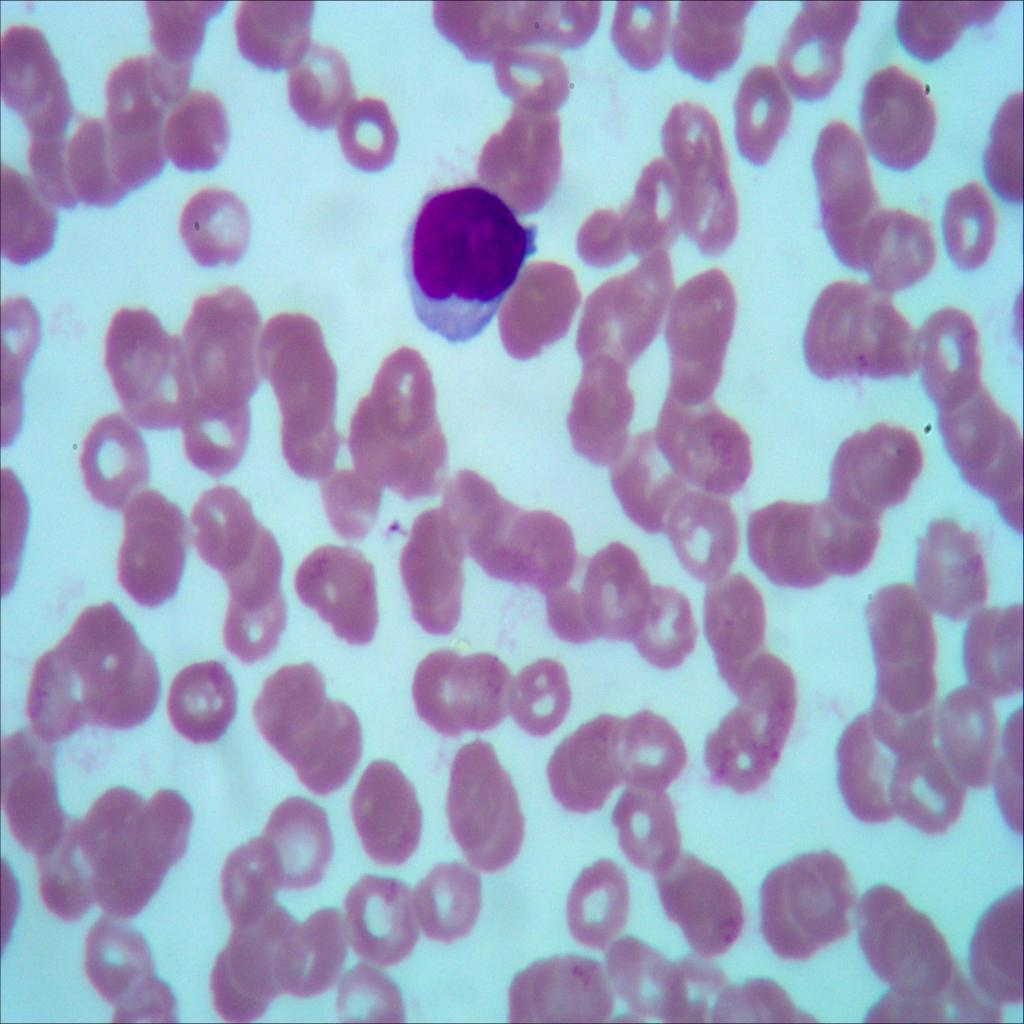Limfoblast: (390, 168, 544, 348)
